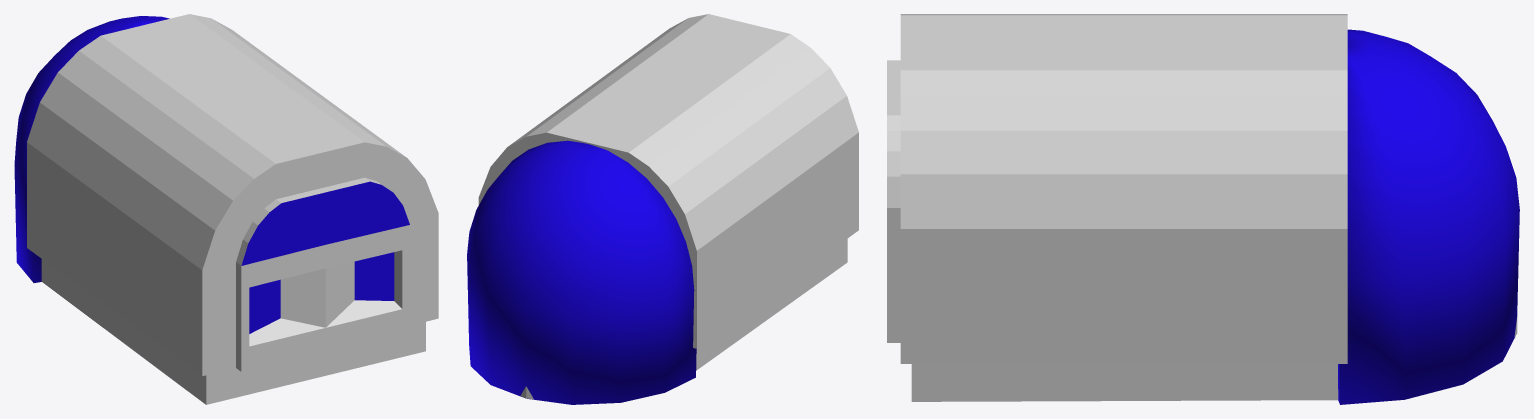
File: spaceship.glb
The picture shows the model from 3 angles, left to right: view 1: azimuth 30°, elevation 25°; view 2: azimuth 150°, elevation 25°; view 3: azimuth 270°, elevation 25°; orthographic projection. The views are drawn at different scales.
Parts seen in each view (by area): view 1: LeftSide, Exit, RightSide, Floor, Glass; view 2: Glass, LeftSide, RightSide, Floor; view 3: RightSide, Glass, Floor, LeftSide, Exit.
Boxes of the visible parts, box(x1,y1,x2,y2) form: LeftSide: box(27, 25, 320, 376); Exit: box(236, 177, 409, 371); RightSide: box(145, 14, 438, 325); Floor: box(41, 259, 425, 404); Glass: box(14, 16, 169, 282); Glass: box(467, 140, 696, 404); LeftSide: box(587, 24, 858, 348); RightSide: box(478, 14, 749, 204); Floor: box(520, 239, 847, 399); RightSide: box(900, 43, 1347, 363); Glass: box(1338, 29, 1519, 404); Floor: box(911, 317, 1517, 401); LeftSide: box(900, 14, 1347, 42); Exit: box(887, 60, 900, 342).
Bounding box in the file's own units: 8.96 × 8.28 × 16.31.
